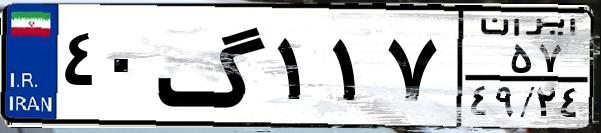0: (110, 28, 156, 98)
1: (270, 28, 330, 110), (330, 28, 385, 110)
2: (535, 70, 560, 125)
4: (57, 26, 110, 100), (560, 70, 590, 125), (470, 70, 495, 125)
5: (508, 27, 537, 80)
7: (385, 28, 445, 110), (537, 27, 568, 80)
9: (495, 70, 520, 125)
گ: (156, 12, 270, 120)
